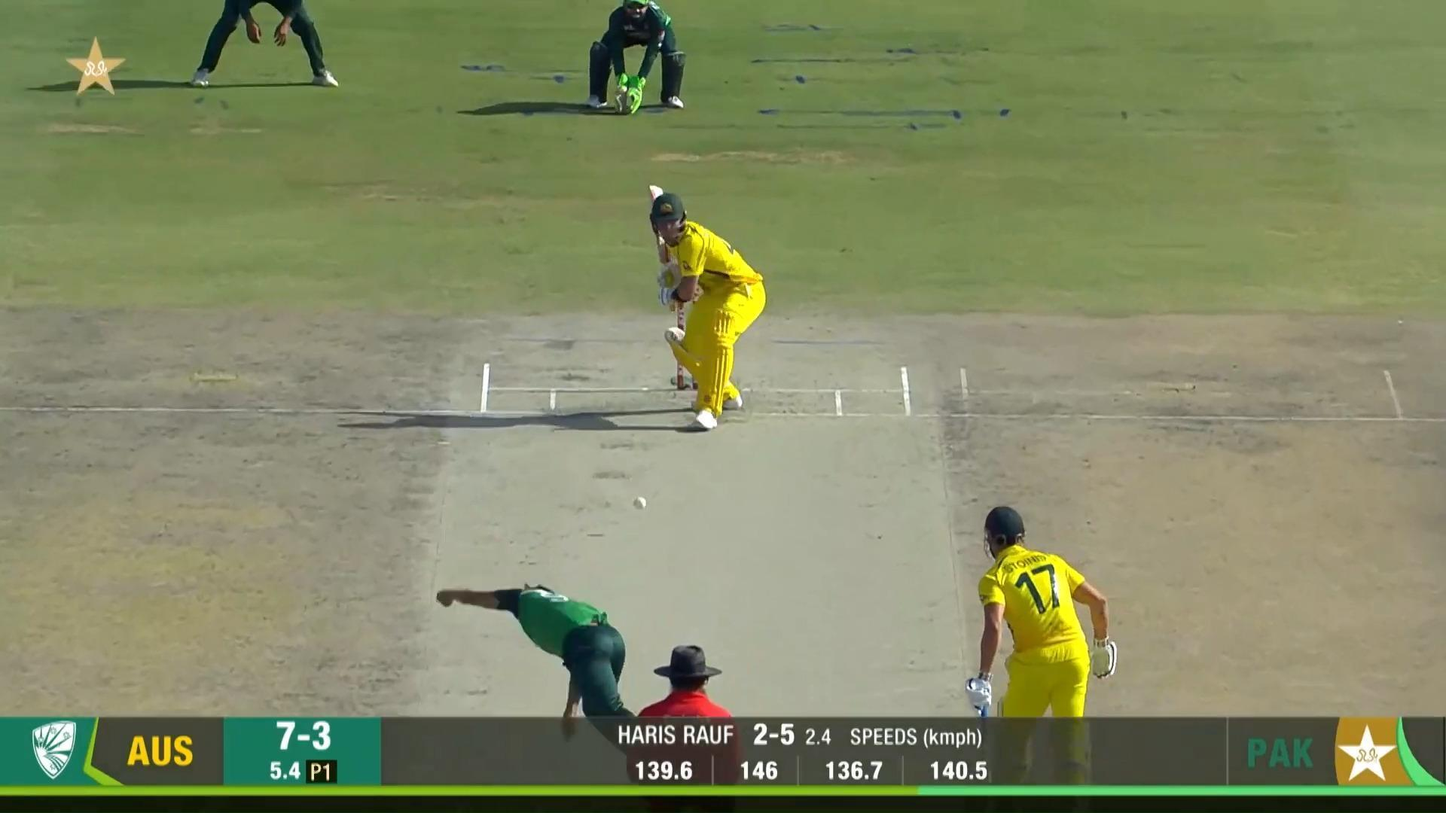BM 1: (647, 185, 766, 429)
BO: (435, 582, 637, 716)
